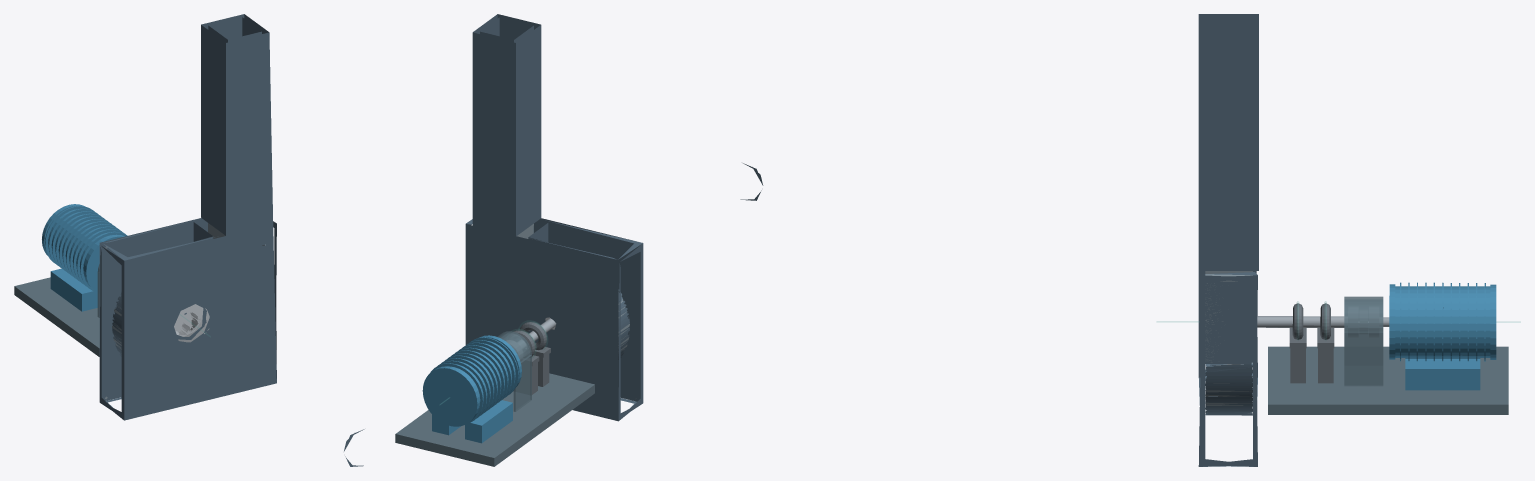
Rendered from induced-draft-fan-lod2.glb.
3 renders of one model, left to right at view 1: azimuth 30°, elevation 25°; view 2: azimuth 150°, elevation 25°; view 3: azimuth 270°, elevation 25°, orthographic. The views are drawn at different scales.
Visible parts, largest first — view 1: SHELL, SHELL002, motor, drive_base, SHELL001; view 2: SHELL, SHELL002, motor, drive_base, coupling_guard, bearing_drive_housing, bearing_non_drive_housing; view 3: SHELL, drive_base, motor, SHELL002, coupling_guard, bearing_non_drive_housing, bearing_drive_housing, main_shaft.
Boxes of the visible parts, left/top/right/bottom form: SHELL: left=99, top=14, right=363, bottom=466; SHELL002: left=99, top=14, right=364, bottom=446; motor: left=42, top=204, right=127, bottom=311; drive_base: left=14, top=277, right=99, bottom=356; SHELL001: left=174, top=304, right=209, bottom=342; SHELL: left=465, top=14, right=763, bottom=421; SHELL002: left=465, top=14, right=759, bottom=420; motor: left=422, top=335, right=521, bottom=443; drive_base: left=395, top=373, right=594, bottom=466; coupling_guard: left=497, top=331, right=531, bottom=411; bearing_drive_housing: left=508, top=330, right=539, bottom=394; bearing_non_drive_housing: left=519, top=322, right=550, bottom=386; SHELL: left=1198, top=14, right=1258, bottom=466; drive_base: left=1268, top=346, right=1508, bottom=414; motor: left=1389, top=282, right=1496, bottom=390; SHELL002: left=1198, top=25, right=1258, bottom=466; coupling_guard: left=1344, top=296, right=1383, bottom=386; bearing_non_drive_housing: left=1289, top=303, right=1306, bottom=383; bearing_drive_housing: left=1317, top=303, right=1334, bottom=383; main_shaft: left=1257, top=316, right=1347, bottom=327.
Bounding box in the file's own units: 650 × 1435 × 2240.
